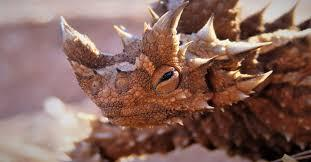Non_Gorille: (53, 0, 309, 157)
